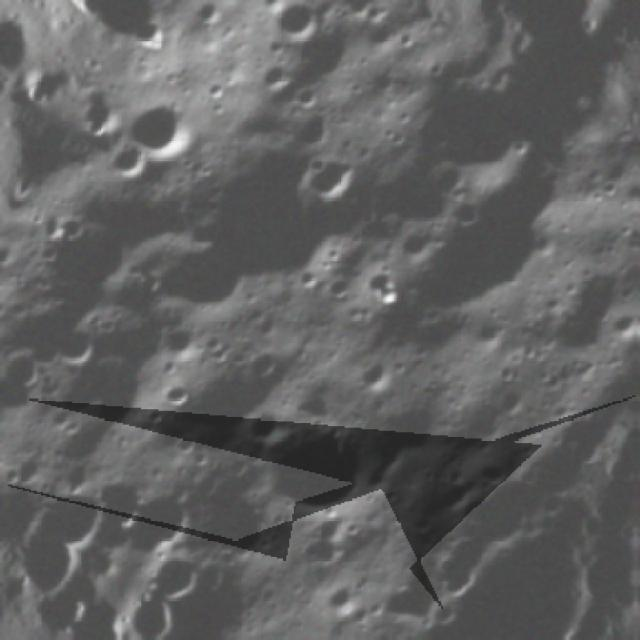crater: (180, 114, 386, 317), (397, 61, 561, 230), (248, 392, 402, 537), (168, 455, 302, 588), (527, 240, 640, 382), (137, 224, 269, 345), (272, 0, 376, 111), (115, 85, 220, 186), (34, 473, 129, 562), (292, 138, 376, 227), (125, 483, 207, 574), (142, 534, 222, 614), (289, 510, 362, 588), (92, 468, 163, 546), (350, 343, 421, 419), (98, 137, 167, 206), (123, 6, 191, 74), (393, 215, 461, 279), (52, 319, 115, 386), (257, 0, 333, 55), (74, 89, 138, 153), (0, 342, 62, 402), (290, 102, 347, 164), (444, 184, 496, 239), (50, 202, 101, 256), (250, 404, 298, 454), (322, 581, 368, 630), (603, 300, 640, 360), (472, 452, 518, 500), (191, 0, 240, 38), (160, 376, 202, 416), (255, 0, 297, 28)
